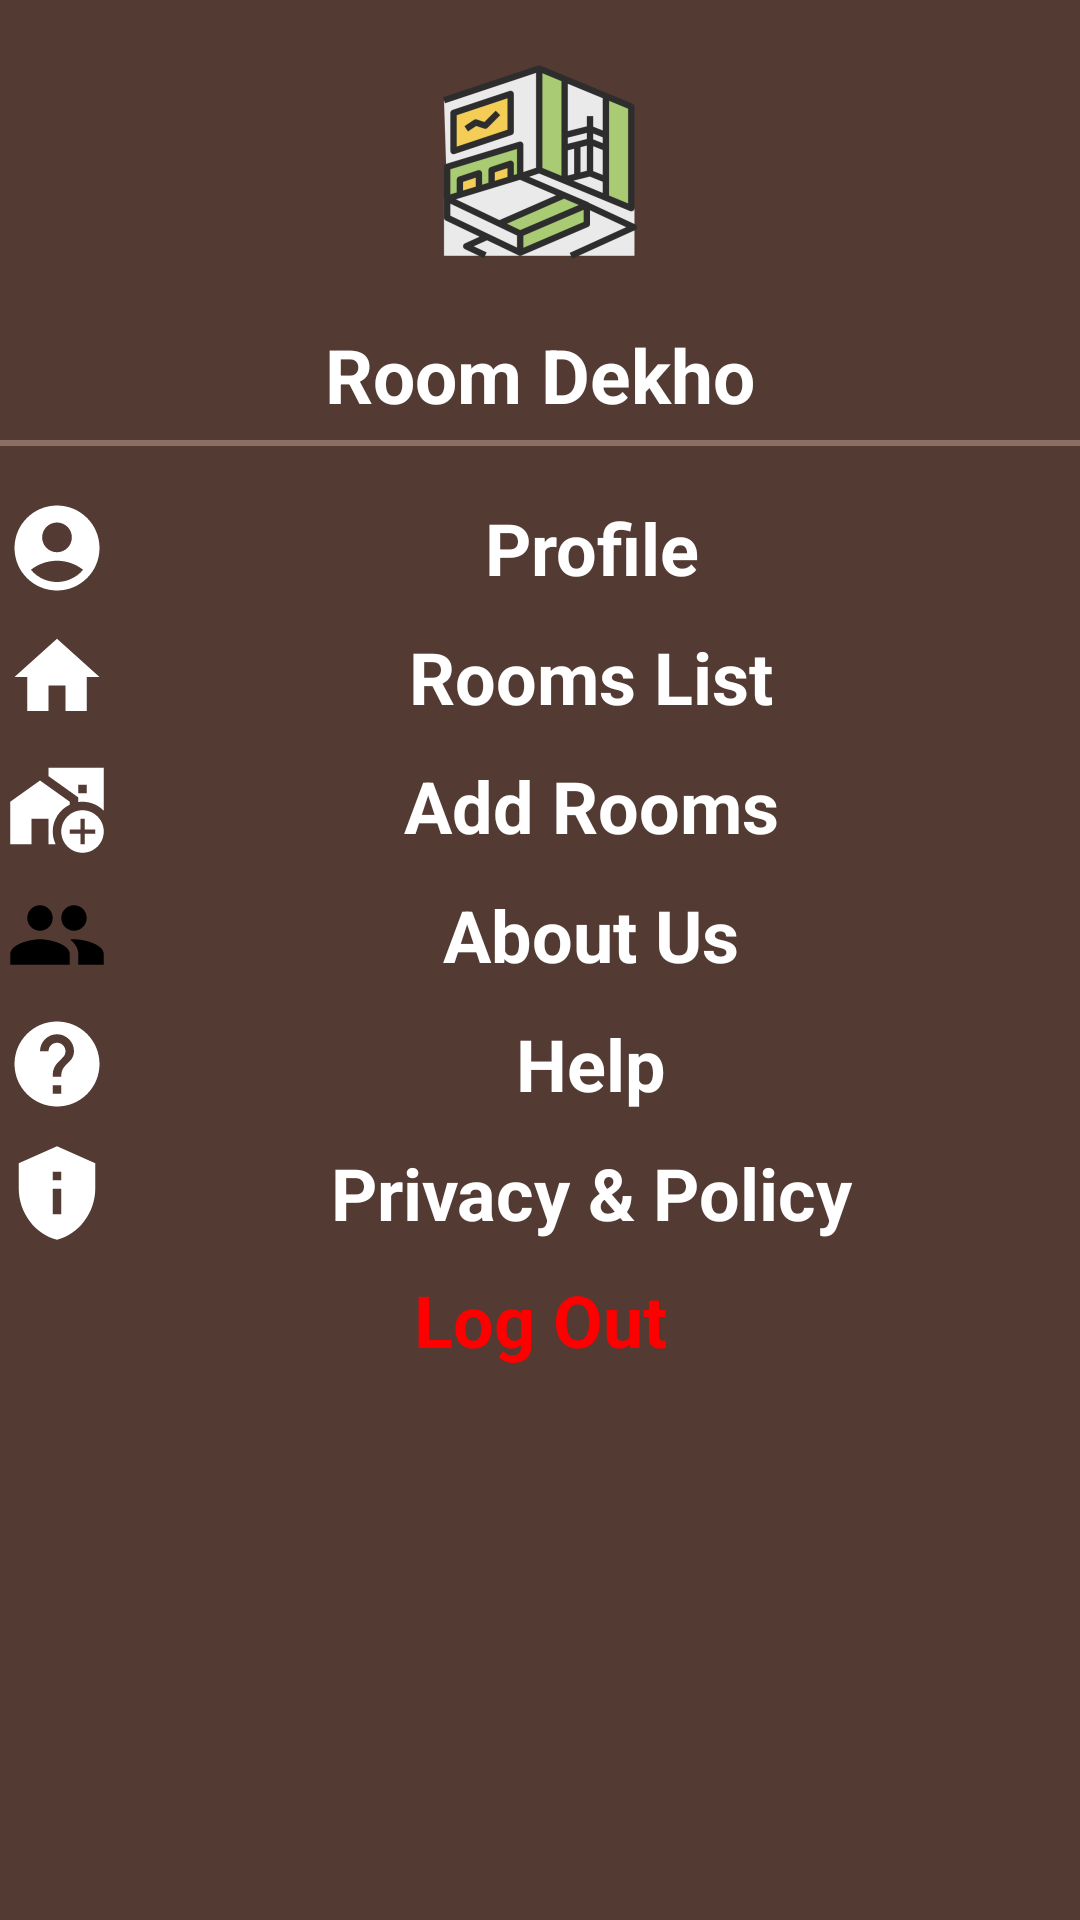

Icons on this 1080px×1920px Android screen, each with its box as (x1, y1, x2, y2):
account circle: (14, 505, 100, 591)
add home work: (10, 767, 104, 853)
home: (15, 639, 99, 711)
people: (10, 905, 104, 965)
privacy tip: (18, 1146, 96, 1240)
